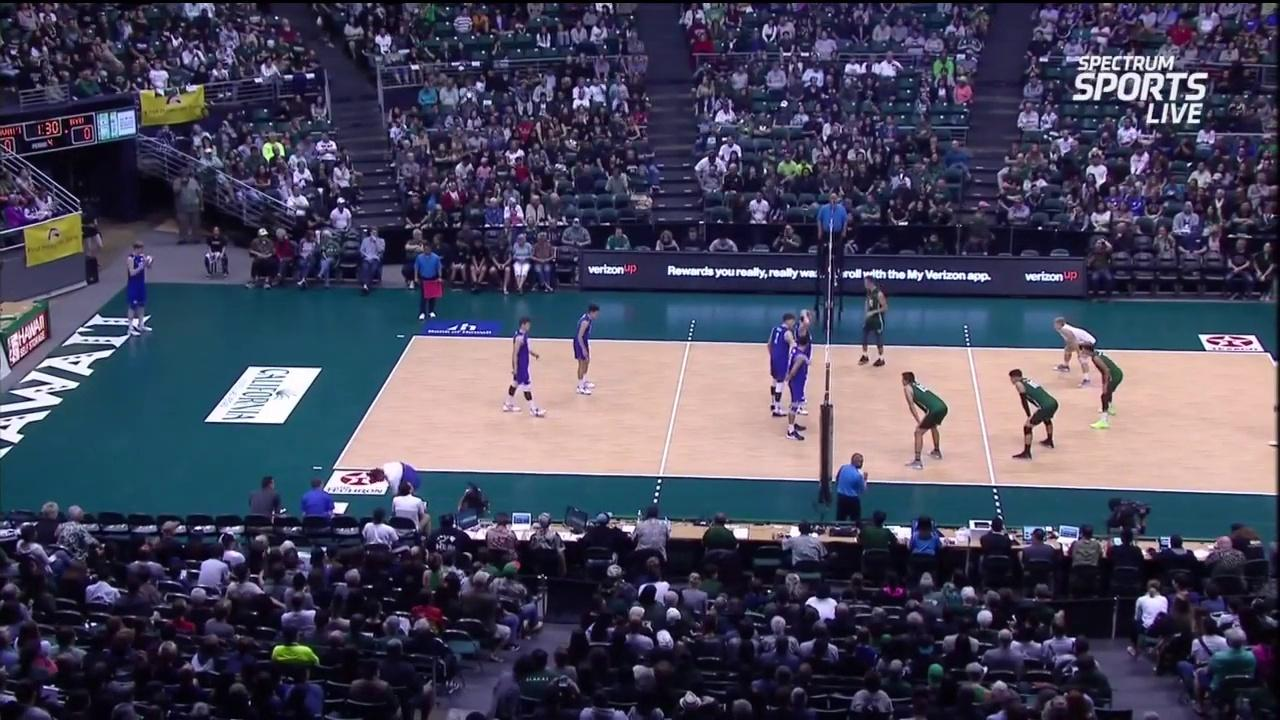player: (1076, 336, 1126, 432), (1010, 368, 1059, 460), (502, 315, 544, 416), (904, 371, 948, 466), (1048, 317, 1100, 384), (786, 332, 815, 448), (765, 310, 796, 417), (791, 306, 817, 416), (127, 242, 154, 330), (863, 275, 889, 366), (574, 304, 599, 396)
refree: (832, 446, 870, 522), (412, 239, 444, 320), (819, 188, 850, 264)
